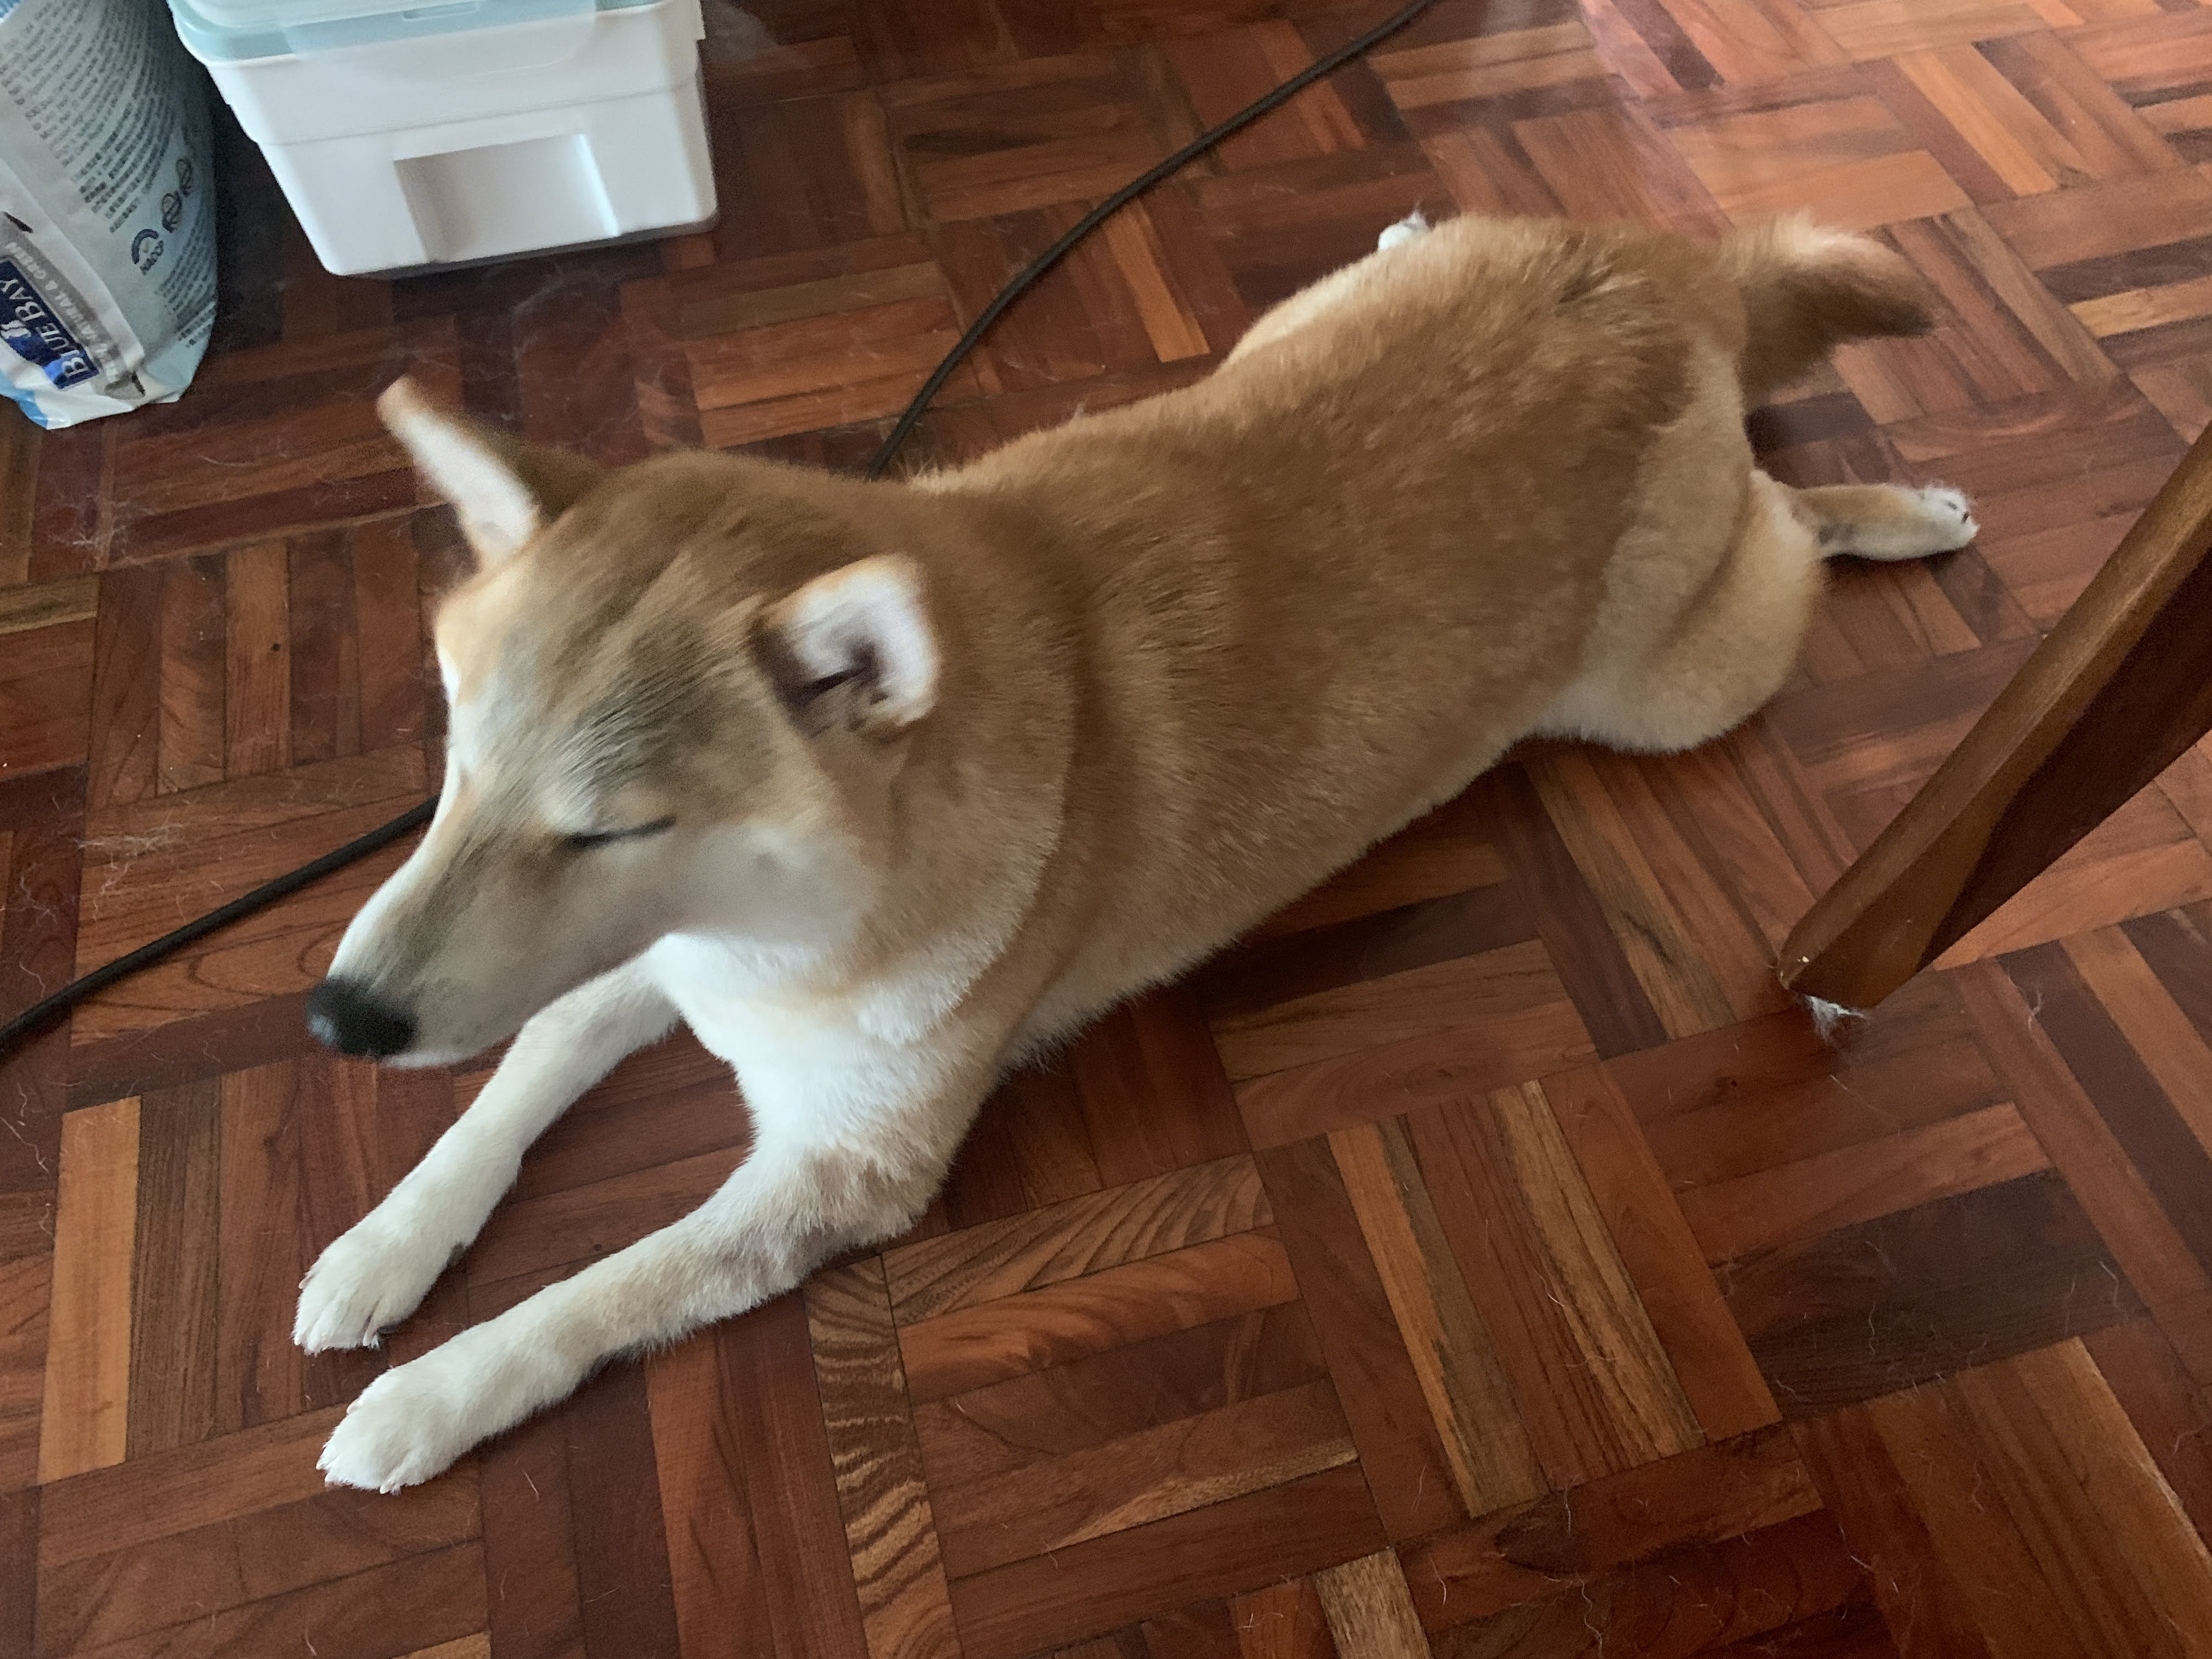Get down: (190, 206, 2158, 1518)
